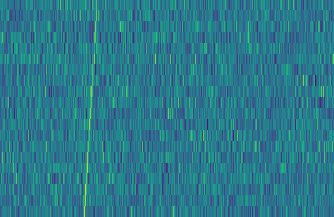signal: (78, 0, 100, 217)
